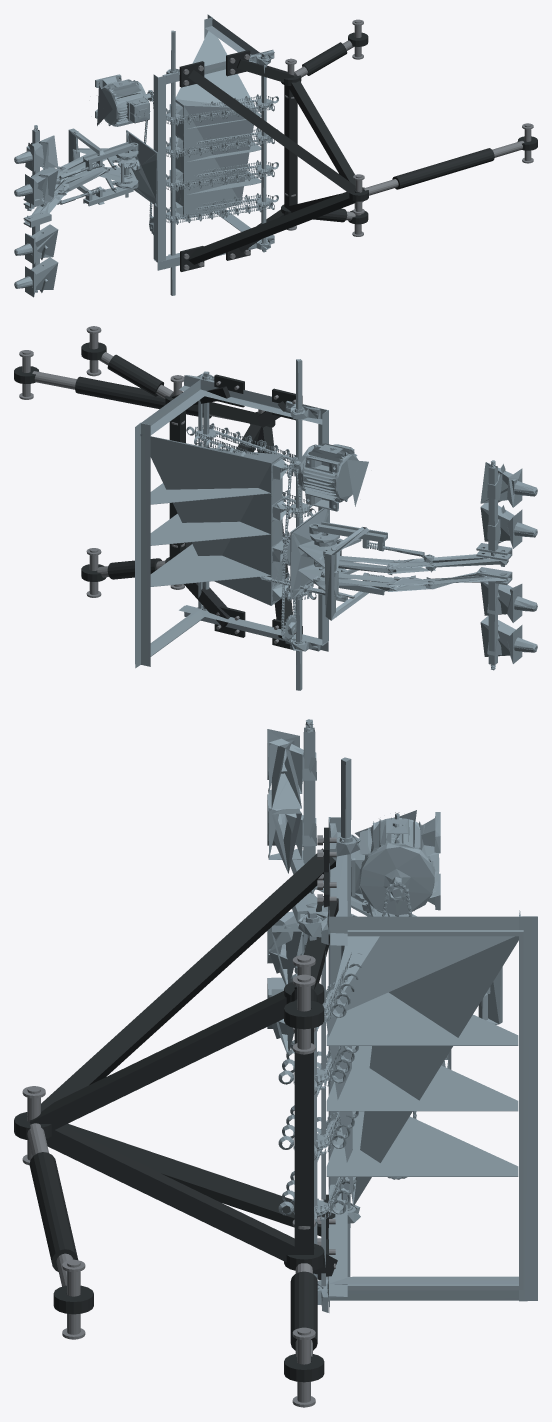
File: implement_garlic_planter_visual.obj
3 views of the same model, one above another, from view 1: azimuth 30°, elevation 25°; view 2: azimuth 150°, elevation 25°; view 3: azimuth 270°, elevation 25° (orthographic). The views are drawn at different scales.
Visible parts, largest first — view 1: solid_292, hitch_receiver_member_6, solid_865, hitch_receiver_member_5, hitch_receiver_member_1, solid_98, hitch_receiver_member_0, hitch_top_link_sleeve, solid_8, solid_2545, solid_2544, solid_867 (+16 smaller); view 2: solid_292, solid_869, solid_98, solid_299, solid_848, hitch_top_link_sleeve, solid_8, solid_2545, solid_866, solid_849, solid_27, solid_864 (+24 smaller); view 3: solid_292, hitch_receiver_member_5, hitch_receiver_member_1, hitch_receiver_member_2, solid_299, solid_848, solid_869, solid_849, hitch_receiver_member_6, solid_293, hitch_receiver_member_0, solid_97 (+19 smaller).
Part boxes in pixels (x1,y1,x2,y2): solid_292: [175, 31, 256, 219]; hitch_receiver_member_6: [188, 191, 355, 264]; solid_865: [153, 74, 165, 262]; hitch_receiver_member_5: [188, 70, 359, 192]; hitch_receiver_member_1: [289, 75, 364, 192]; solid_98: [95, 74, 144, 126]; hitch_receiver_member_0: [284, 85, 297, 209]; hitch_top_link_sleeve: [392, 148, 494, 189]; solid_8: [126, 130, 157, 207]; solid_2545: [170, 30, 175, 295]; solid_2544: [261, 52, 266, 252]; solid_867: [205, 18, 260, 54]; solid_292: [140, 434, 282, 605]; solid_869: [135, 422, 150, 668]; solid_98: [301, 443, 358, 511]; solid_299: [150, 544, 270, 586]; solid_848: [150, 513, 270, 545]; hitch_top_link_sleeve: [75, 376, 211, 418]; solid_8: [290, 508, 329, 600]; solid_2545: [296, 359, 302, 690]; solid_866: [179, 375, 322, 424]; solid_849: [150, 483, 270, 504]; solid_27: [324, 527, 369, 620]; solid_864: [179, 605, 328, 651]; solid_292: [326, 936, 518, 1206]; hitch_receiver_member_5: [27, 848, 335, 1116]; hitch_receiver_member_1: [29, 991, 286, 1130]; hitch_receiver_member_2: [46, 1126, 294, 1262]; solid_299: [326, 1111, 518, 1176]; solid_848: [326, 1046, 518, 1111]; solid_869: [519, 910, 537, 1301]; solid_849: [326, 992, 518, 1045]; hitch_receiver_member_6: [63, 1124, 335, 1236]; solid_293: [347, 930, 523, 1290]; hitch_receiver_member_0: [294, 1028, 313, 1254]; solid_97: [359, 843, 435, 915].
Size of the model in its own units: 2.24 by 1.2 by 1.09.
